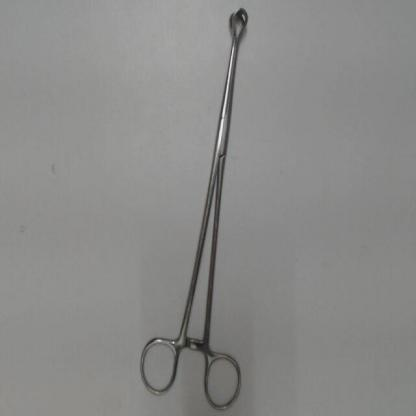8 Babcock Tissue Forceps: (131, 6, 256, 414)
